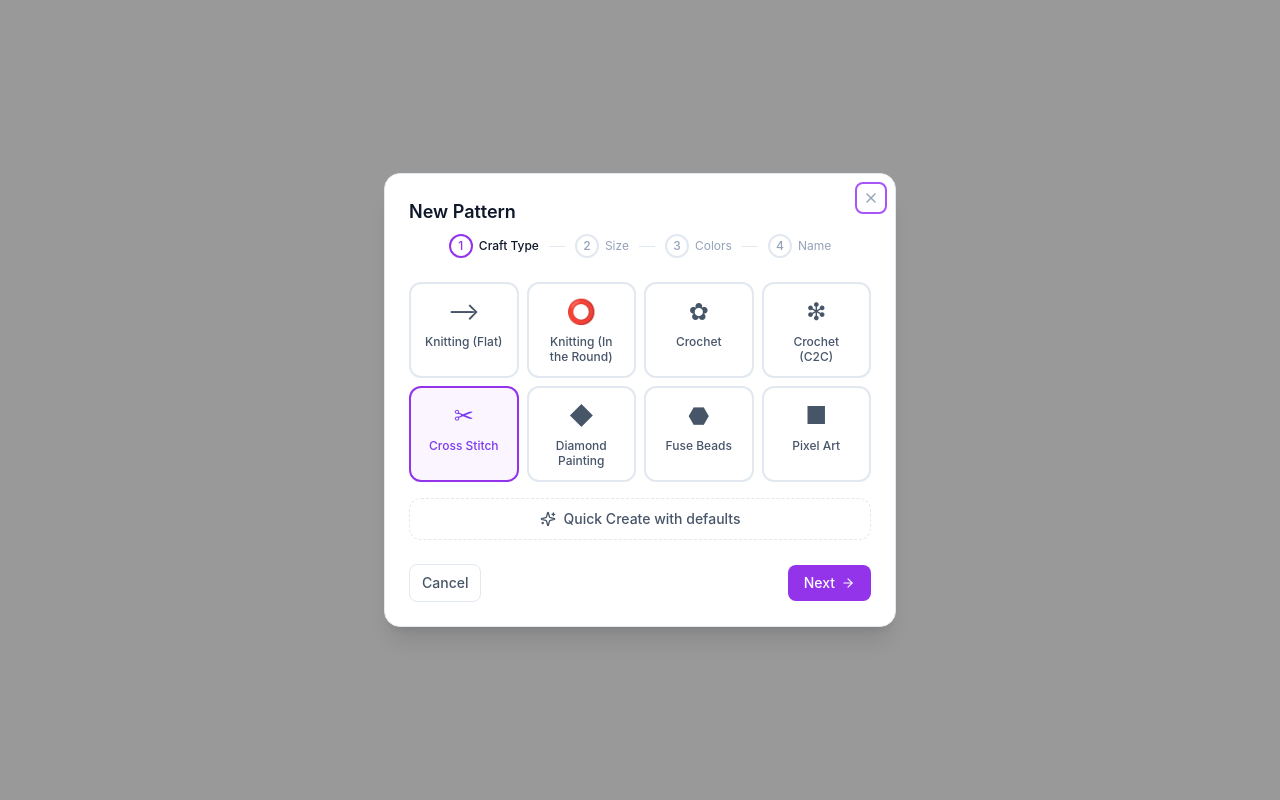
it: NewPatternDialog › shows dimension presets on second step
// Click Next to advance from craft type step
Step 1. Click the button "Next" → (829, 583), box [788,565,871,601]
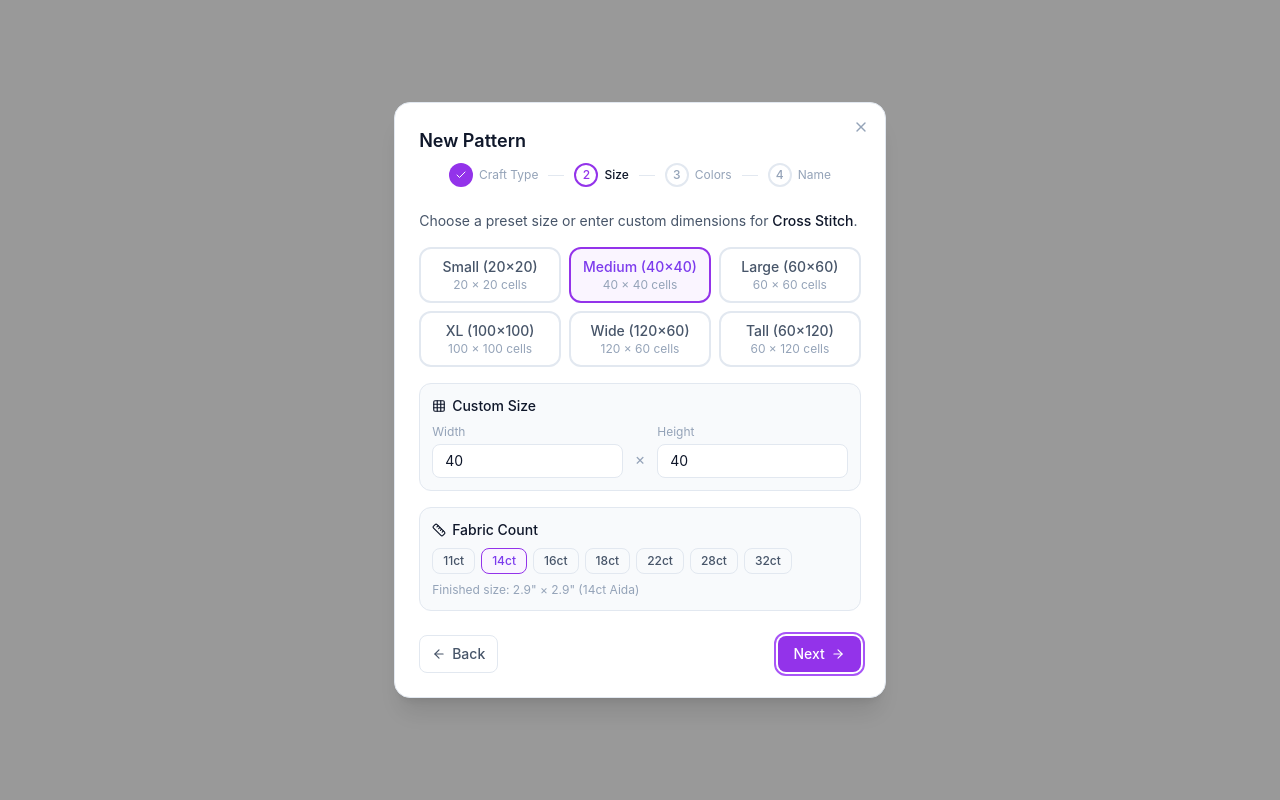
Check: the text "Size" is shown, box [604,167,629,183]
Check: the text "Medium (40×40)" is shown, box [583,257,697,277]
Check: the text "Large (60×60)" is shown, box [733,257,847,277]
